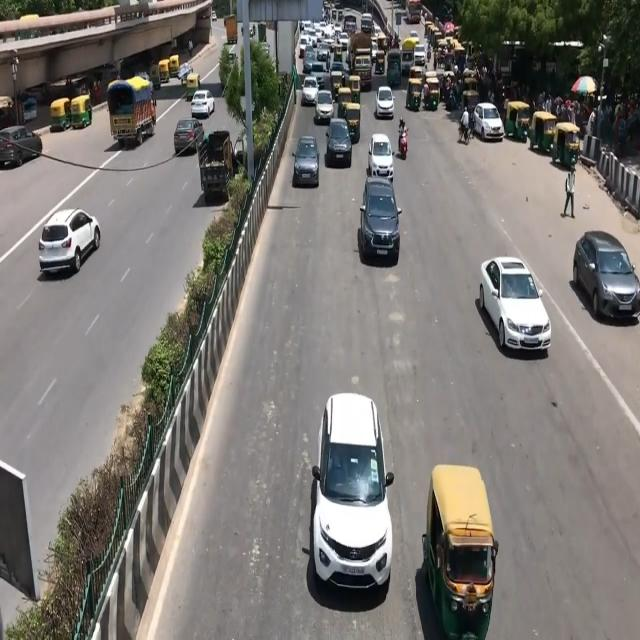Scooty: (398, 112, 411, 165)
Tempo: (198, 137, 244, 201)
Truck: (109, 77, 156, 146)
